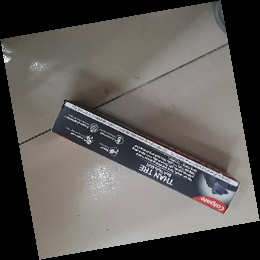Colgate Than: (50, 99, 243, 216)
